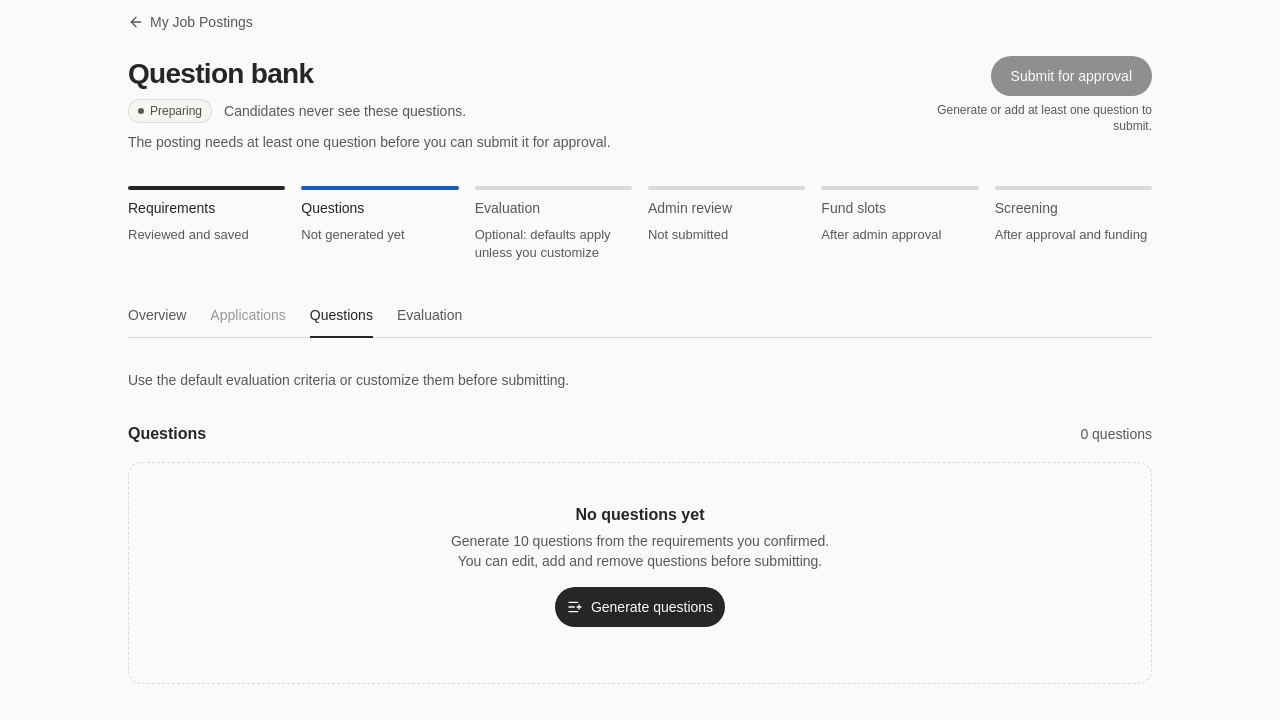
Test: QuestionBank › shows the server message when generation fails
What coordinates should you click on to do the following:
click the button "Generate questions"
I would click on:
 (640, 606)
Its box is [555,586,725,626].
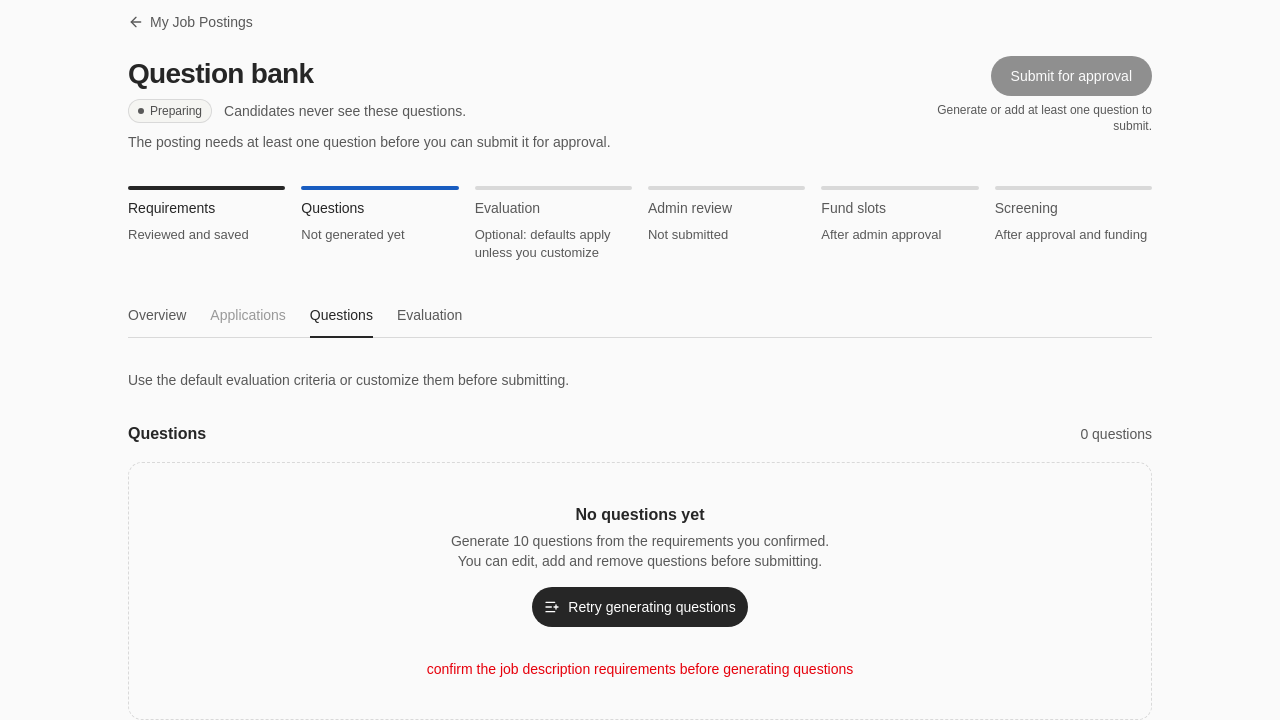
expect the button "Retry generating questions" is enabled: met, box [532,586,748,626]
expect the message shows "confirm the job description requirements": met, box [427,660,853,676]
